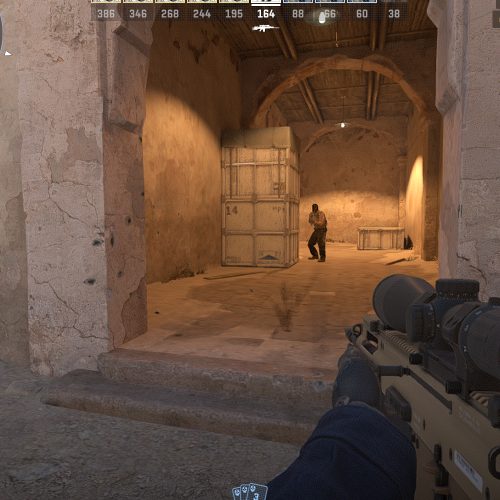t_body: (307, 203, 328, 262)
t_head: (311, 203, 319, 213)
